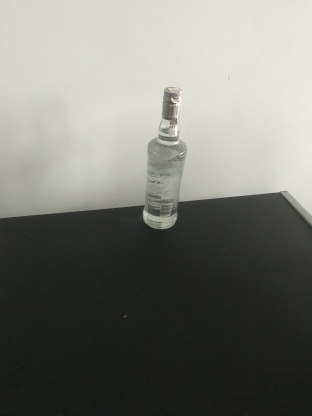nakretka: (160, 84, 183, 120)
